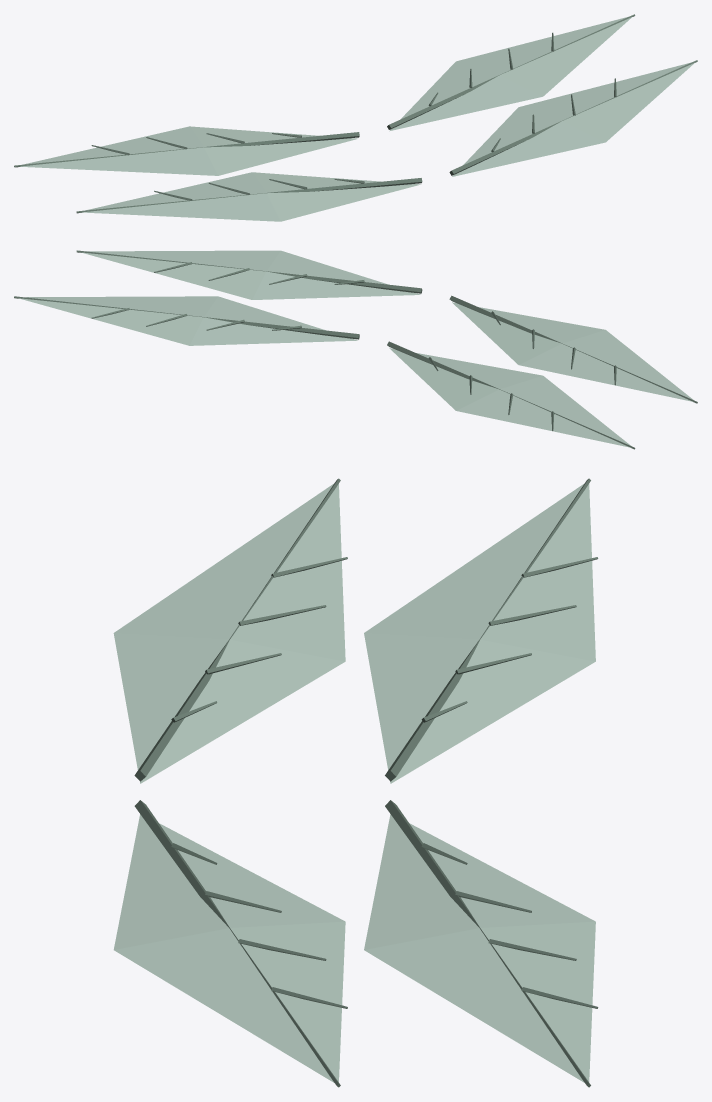
The model's file is dragonfly_wings.meshopt.glb.
3 views of the same model, one above another, from view 1: azimuth 30°, elevation 25°; view 2: azimuth 150°, elevation 25°; view 3: azimuth 270°, elevation 25° (orthographic). The views are drawn at different scales.
Parts seen in each view (by area): view 1: dragonfly_wings; view 2: dragonfly_wings; view 3: dragonfly_wings.
Boxes of the visible parts, left/top/right/bottom form: dragonfly_wings: left=14, top=14, right=697, bottom=221; dragonfly_wings: left=14, top=250, right=697, bottom=449; dragonfly_wings: left=113, top=478, right=598, bottom=1087.
Bounding box in the file's own units: 0.1661 × 0.00345 × 0.0562.
